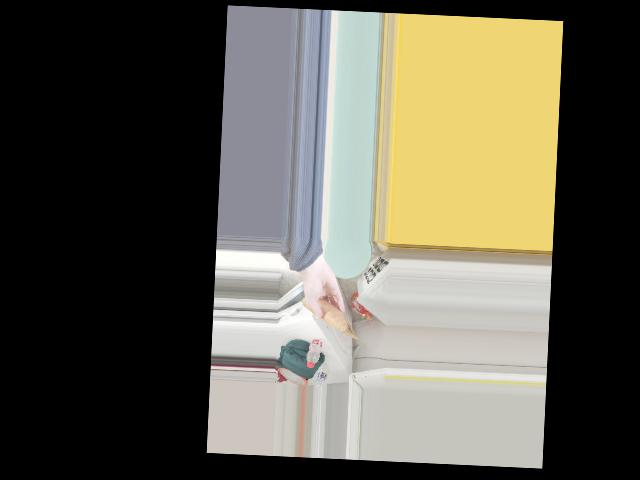sweet_potato: (302, 291, 340, 324)
